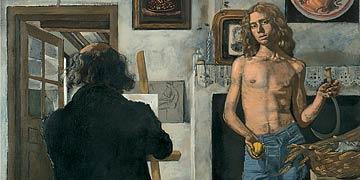person: (226, 6, 342, 172), (46, 44, 170, 179)
